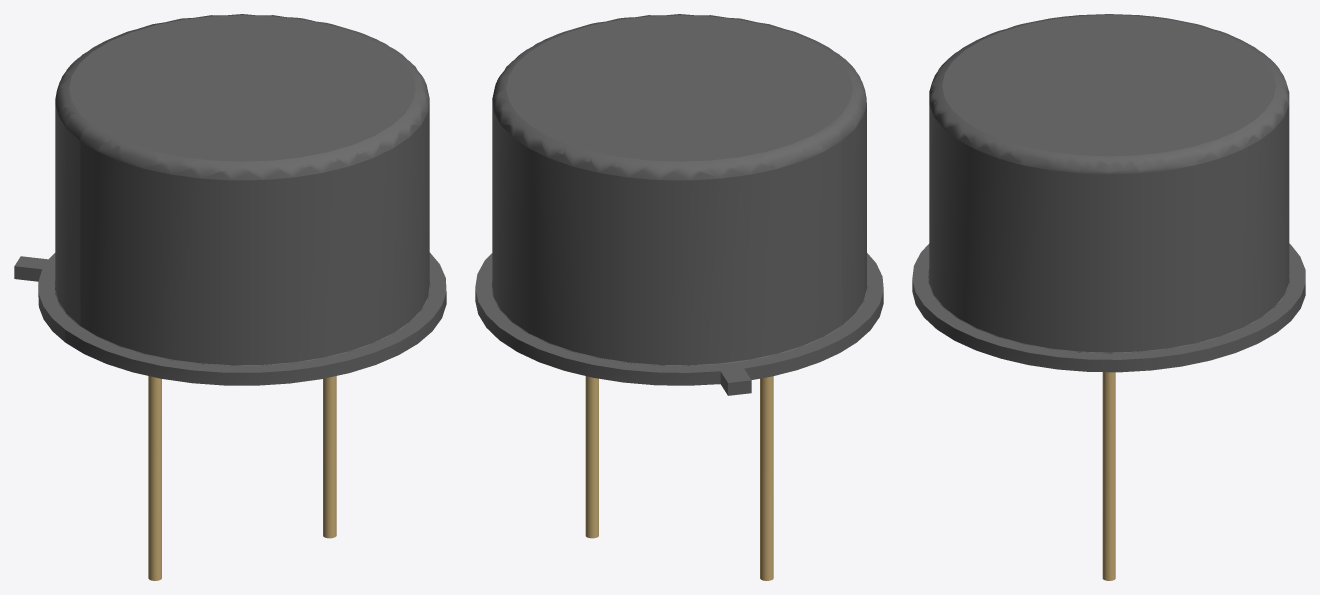
3 views of the same model, side by side, from view 1: azimuth 30°, elevation 25°; view 2: azimuth 150°, elevation 25°; view 3: azimuth 270°, elevation 25° (orthographic). The views are drawn at different scales.
Parts seen in each view (by area): view 1: 0.16666666666666666_0.16666666666666666_0.16666666666666666_, 0.75_0.5_0.25_0.9; view 2: 0.16666666666666666_0.16666666666666666_0.16666666666666666_, 0.75_0.5_0.25_0.9; view 3: 0.16666666666666666_0.16666666666666666_0.16666666666666666_, 0.75_0.5_0.25_0.9.
Part boxes in pixels (x1,y1,x2,y2): 0.16666666666666666_0.16666666666666666_0.16666666666666666_: (14, 14, 446, 385); 0.75_0.5_0.25_0.9: (148, 376, 336, 580); 0.16666666666666666_0.16666666666666666_0.16666666666666666_: (475, 14, 883, 395); 0.75_0.5_0.25_0.9: (585, 376, 773, 580); 0.16666666666666666_0.16666666666666666_0.16666666666666666_: (912, 14, 1305, 372); 0.75_0.5_0.25_0.9: (1102, 372, 1115, 580).
Size of the model in its own units: 1.44 by 1.82 by 1.44.
